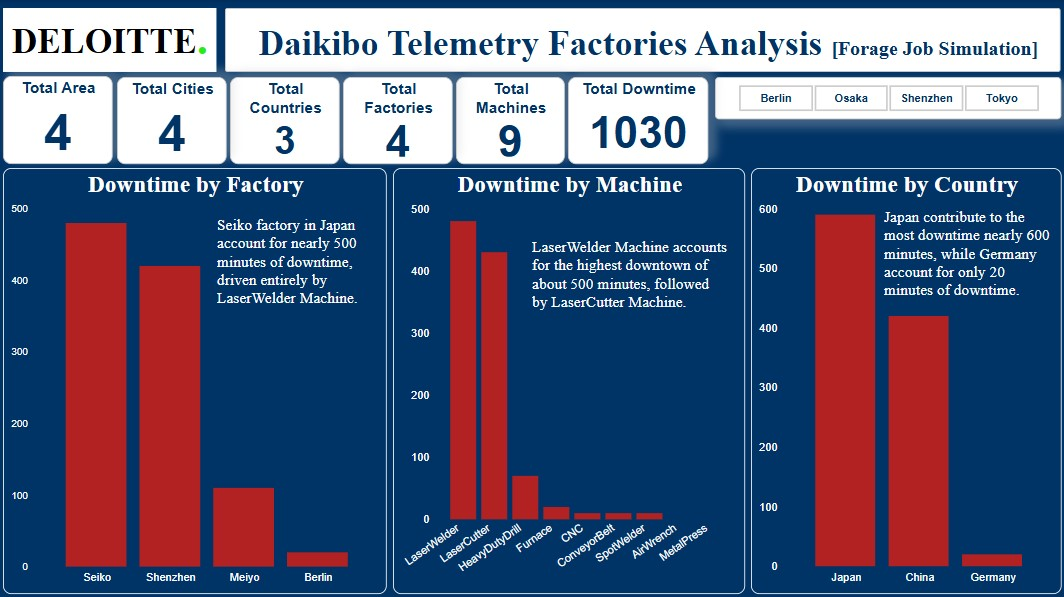

Layout of this report page (visuals, bound fields, positions):
{"tool":"powerbi","page":{"name":"Page 1","canvas":[1280,720],"ordinal":0},"visuals":[{"type":"clusteredColumnChart","title":"Downtime by Factory","fields":{"Category":["Dataset.Factory"],"Y":["Dataset.Downtown"]},"box":[4.1,202.3,462.5,513.4],"z":0},{"type":"clusteredColumnChart","title":"Downtime by Machine","fields":{"Y":["Dataset.Unhealthy"],"Category":["Dataset.Device Type"]},"box":[473.5,202.3,423.9,513.4],"z":1000},{"type":"clusteredColumnChart","title":"Downtime by Country","fields":{"Y":["Dataset.Downtown"],"Category":["Dataset.Country"]},"box":[904.2,202.8,373.6,512.5],"z":2000},{"type":"slicer","fields":{"Values":["Dataset.City"]},"box":[861.1,93.1,416.7,51.4],"z":3000},{"type":"textbox","box":[271.1,9.6,1006.1,77.1],"z":4000},{"type":"card","title":"Total Area","fields":{"Values":["Count(Dataset.Area)"]},"box":[4.2,91.7,131.9,105.6],"z":5000},{"type":"card","title":"Total Machines","fields":{"Values":["Count(Dataset.Device Type)"]},"box":[549.2,92.2,130.8,104.6],"z":6000},{"type":"card","title":"Total Countries","fields":{"Values":["Count(Dataset.Country)"]},"box":[276.6,92.2,132.1,104.6],"z":7000},{"type":"card","title":"Total Factories","fields":{"Values":["Count(Dataset.Factory)"]},"box":[412.9,92.2,132.1,104.6],"z":8000},{"type":"card","title":"Total Cities","fields":{"Values":["Count(Dataset.City)"]},"box":[140.4,92.2,132.1,104.6],"z":9000},{"type":"card","title":"Total Downtime","fields":{"Values":["Dataset.Downtown"]},"box":[684,92.2,169.3,104.6],"z":10000},{"type":"textbox","box":[4.1,9.6,257.4,77.1],"z":11000},{"type":"shape","box":[640,286.3,235.4,97.7],"z":12000},{"type":"shape","box":[1063.9,250.5,209.2,110.1],"z":13000},{"type":"shape","box":[261.5,260.1,195.4,123.9],"z":14000}]}

Visuals, with their boxes in screenshot pixels (x1, y1, x2, y2), scaled from the page's 1280x720 canvas onto the 1064x597 screenshot:
"Downtime by Factory" clusteredColumnChart: <bbox>3, 168, 388, 593</bbox>
"Downtime by Machine" clusteredColumnChart: <bbox>394, 168, 746, 593</bbox>
"Downtime by Country" clusteredColumnChart: <bbox>752, 168, 1062, 593</bbox>
slicer - Dataset.City: <bbox>716, 77, 1062, 120</bbox>
textbox: <bbox>225, 8, 1062, 72</bbox>
"Total Area" card: <bbox>3, 76, 113, 164</bbox>
"Total Machines" card: <bbox>457, 76, 565, 163</bbox>
"Total Countries" card: <bbox>230, 76, 340, 163</bbox>
"Total Factories" card: <bbox>343, 76, 453, 163</bbox>
"Total Cities" card: <bbox>117, 76, 227, 163</bbox>
"Total Downtime" card: <bbox>569, 76, 709, 163</bbox>
textbox: <bbox>3, 8, 217, 72</bbox>
shape: <bbox>532, 237, 728, 318</bbox>
shape: <bbox>884, 208, 1058, 299</bbox>
shape: <bbox>217, 216, 380, 318</bbox>
